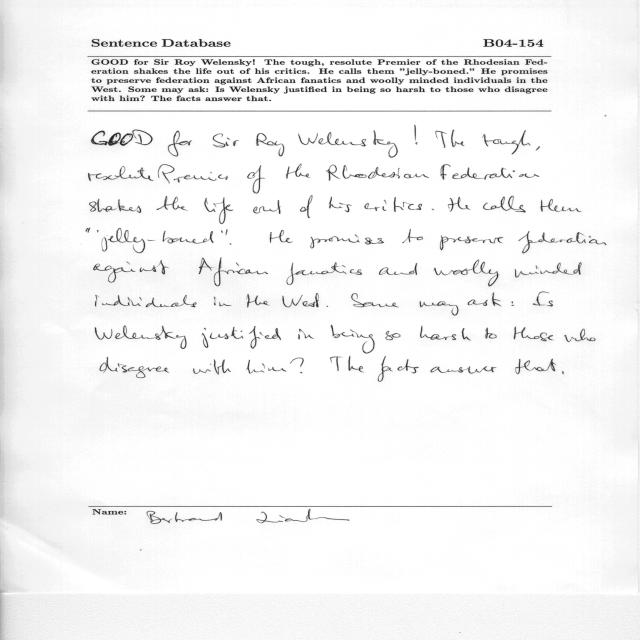word: (97, 228, 213, 253), (298, 130, 398, 158), (95, 325, 187, 349), (518, 231, 607, 254), (199, 258, 268, 286), (202, 326, 281, 349), (434, 260, 499, 287), (94, 260, 169, 283), (287, 262, 362, 285), (326, 165, 429, 181), (440, 164, 539, 180), (100, 357, 169, 378), (158, 164, 228, 184), (331, 325, 375, 354), (96, 295, 197, 307), (482, 130, 531, 154), (515, 262, 582, 278), (378, 356, 419, 382), (91, 129, 153, 146), (310, 235, 384, 249), (88, 166, 154, 181), (440, 236, 503, 251), (364, 197, 422, 212), (204, 197, 234, 224), (420, 326, 471, 341), (483, 196, 526, 213), (90, 199, 141, 213), (351, 294, 399, 308), (256, 133, 284, 156), (168, 131, 192, 157), (515, 359, 556, 374), (193, 359, 231, 375), (514, 327, 554, 342), (420, 301, 459, 316), (330, 356, 364, 373), (246, 360, 287, 374), (541, 199, 582, 212), (431, 366, 497, 374), (436, 130, 465, 148), (247, 166, 265, 194), (283, 293, 319, 307), (468, 293, 502, 307), (379, 263, 417, 275), (156, 196, 188, 210), (564, 329, 596, 342), (253, 200, 281, 214), (213, 134, 239, 148), (286, 164, 310, 179), (329, 197, 352, 212), (448, 197, 470, 212), (533, 292, 553, 307), (300, 196, 313, 219), (270, 230, 293, 243), (247, 294, 270, 307), (402, 229, 423, 243), (290, 358, 304, 373), (298, 329, 314, 340), (214, 297, 231, 306), (386, 331, 401, 340), (485, 328, 497, 339), (226, 229, 232, 245), (414, 125, 418, 145), (536, 146, 540, 151), (86, 228, 90, 233), (511, 301, 514, 306), (221, 230, 223, 233), (562, 371, 564, 374), (432, 209, 434, 210), (326, 306, 328, 307)
